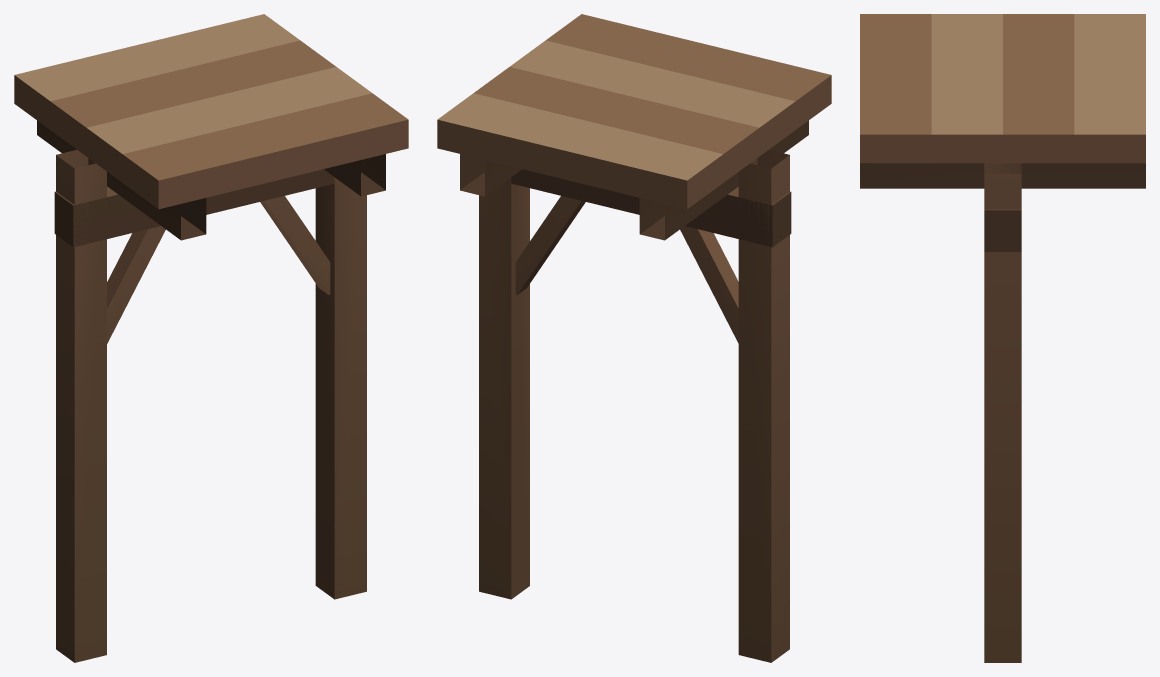
Rendered from custom-passarela-deck.glb.
The picture shows the model from 3 angles, left to right: view 1: azimuth 30°, elevation 25°; view 2: azimuth 150°, elevation 25°; view 3: azimuth 270°, elevation 25°; orthographic projection.
Visible parts, largest first — view 1: passarela-deck; view 2: passarela-deck; view 3: passarela-deck.
Part boxes in pixels (x1,y1,x2,y2): passarela-deck: (14, 14, 408, 662); passarela-deck: (437, 14, 831, 662); passarela-deck: (860, 14, 1145, 662).
Bounding box in the file's own units: 2.36 × 4 × 2.
